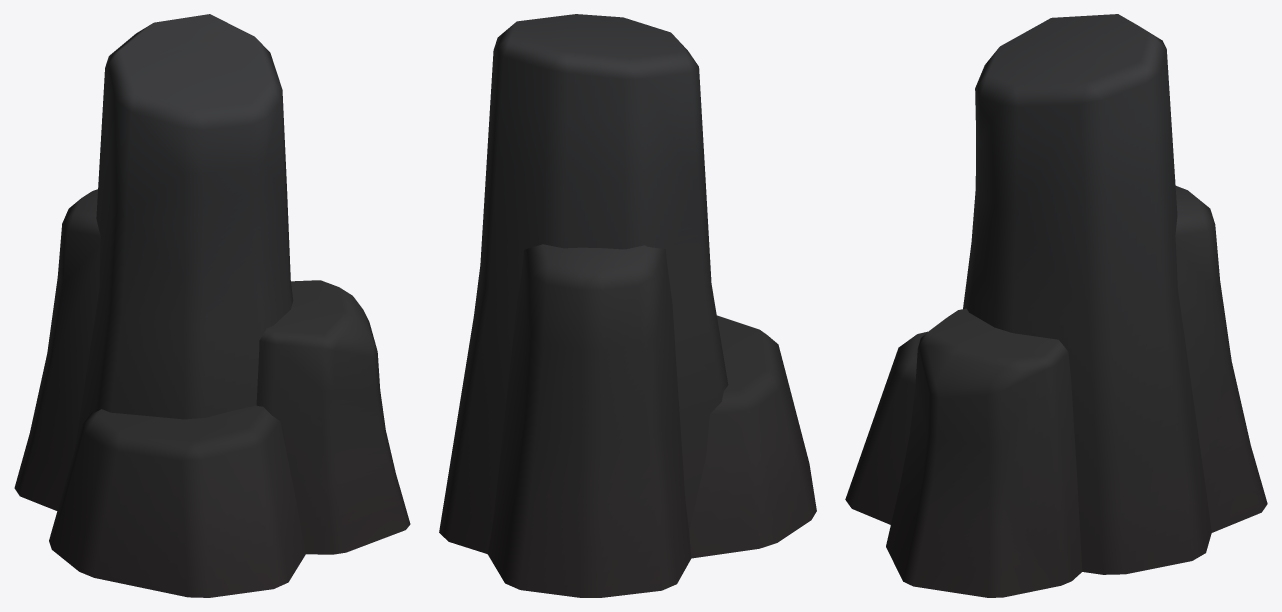
Rendered from inferno-rock-small-001.glb.
3 renders of one model, left to right at view 1: azimuth 30°, elevation 25°; view 2: azimuth 150°, elevation 25°; view 3: azimuth 270°, elevation 25°, orthographic. The views are drawn at different scales.
Visible parts, largest first — view 1: RockSmall_001; view 2: RockSmall_001; view 3: RockSmall_001.
Part boxes in pixels (x1=…): RockSmall_001: x1=14, y1=14, x2=410, y2=597; RockSmall_001: x1=439, y1=14, x2=816, y2=597; RockSmall_001: x1=845, y1=14, x2=1267, y2=597.
Size of the model in its own units: 3.38 by 4.6 by 3.67.
1 material, 1 textured.
